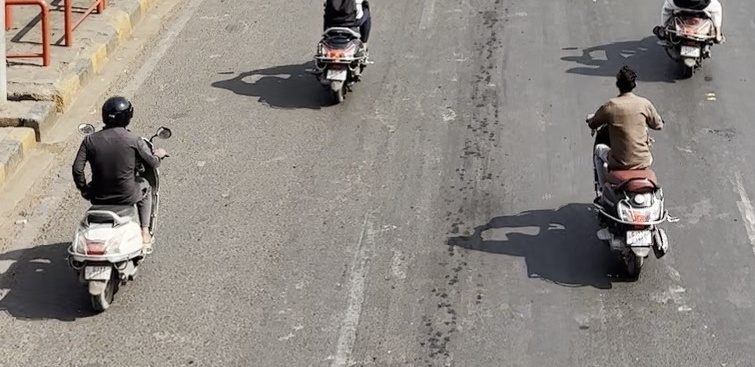BikeWithRider: (58, 90, 177, 317), (577, 60, 677, 285), (299, 0, 379, 108), (645, 0, 732, 81)
Helmet: (95, 91, 140, 132)
NoHelmet: (608, 61, 644, 97)
